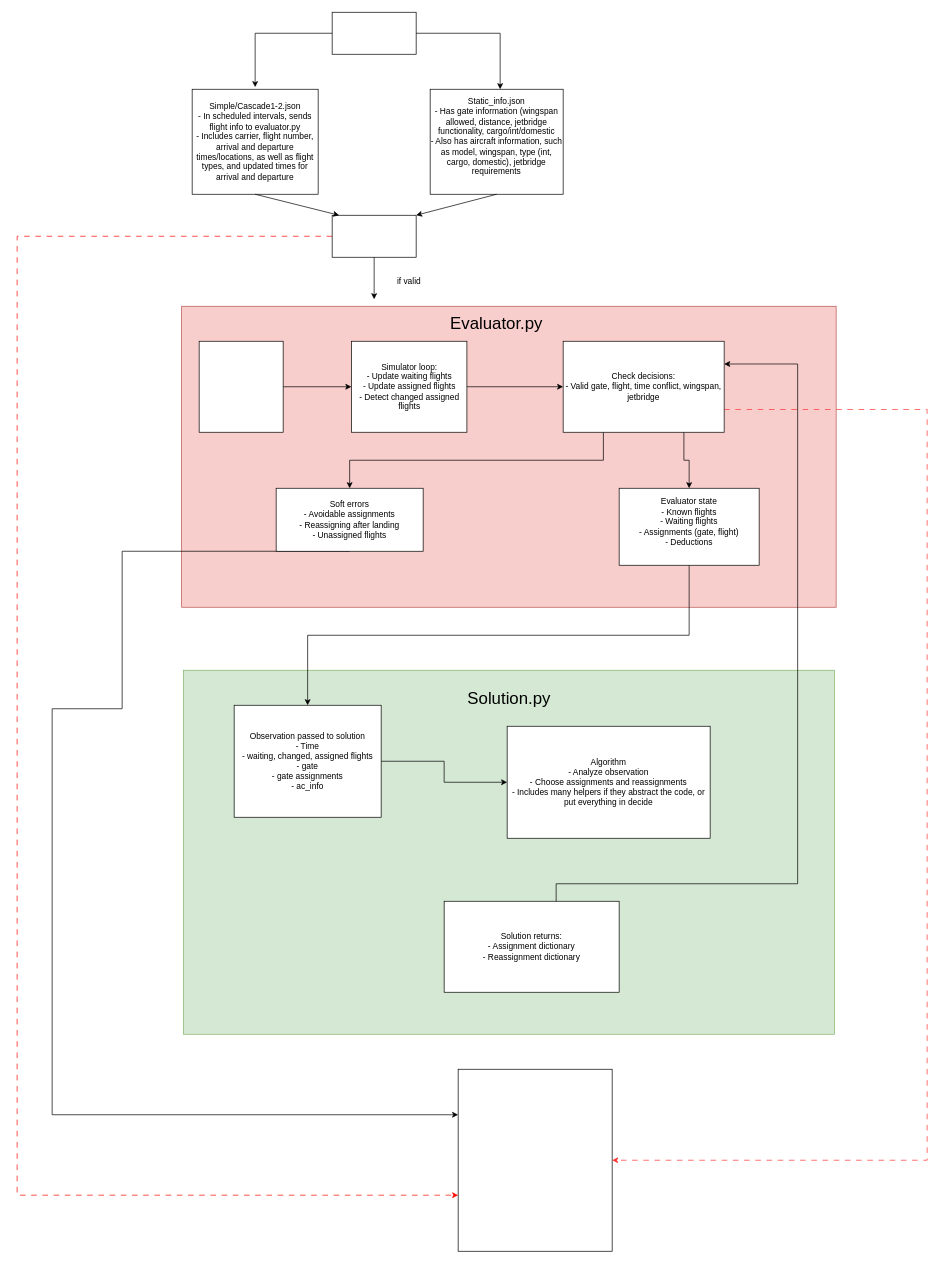
Image size: 945x1264. Some labels were removed from this diagram. Each missing label, with the centre of its shape:
"- load static info - load flight schedule - convert h to m - sort message times" goes at (x=240, y=386).
"Console Log - Assignments and reassignments - Pass fail - Deductions, summary" goes at (x=534, y=1160).
"Json Data" goes at (x=373, y=33).
"Validation.py - Validates Jsons and its data" goes at (x=373, y=236).
